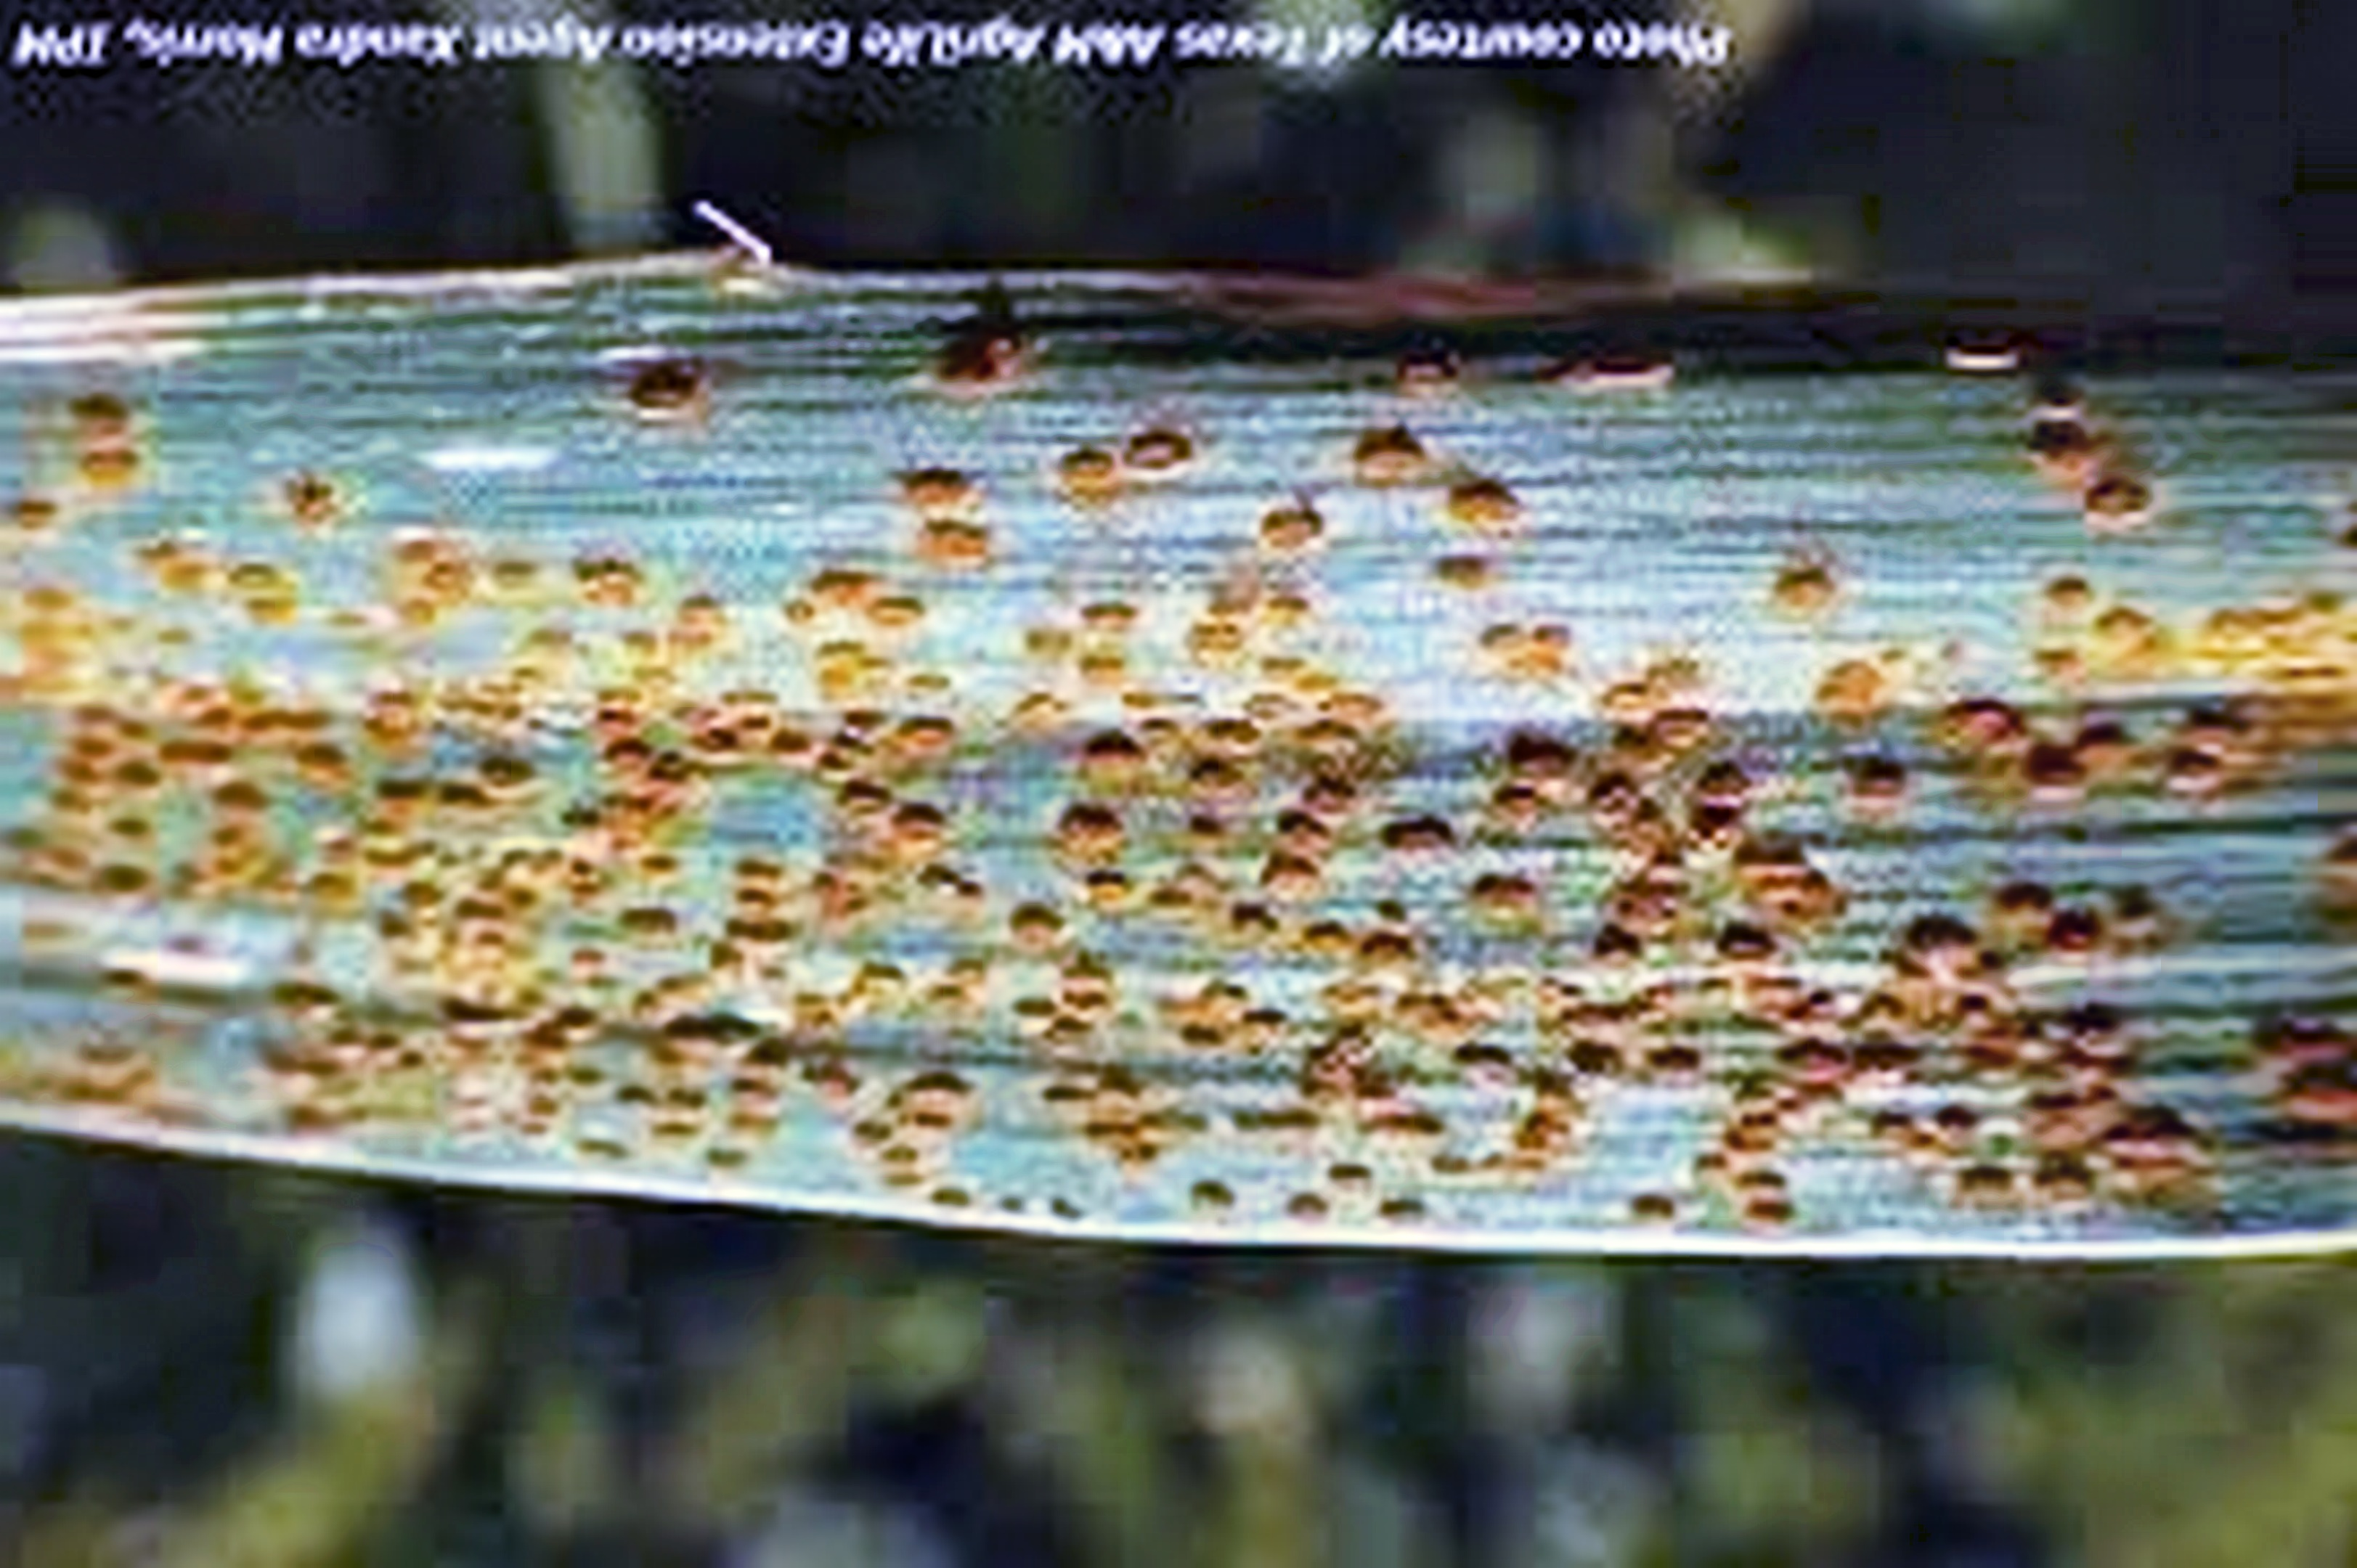Leaf Rust: (79, 283, 2079, 1283)
